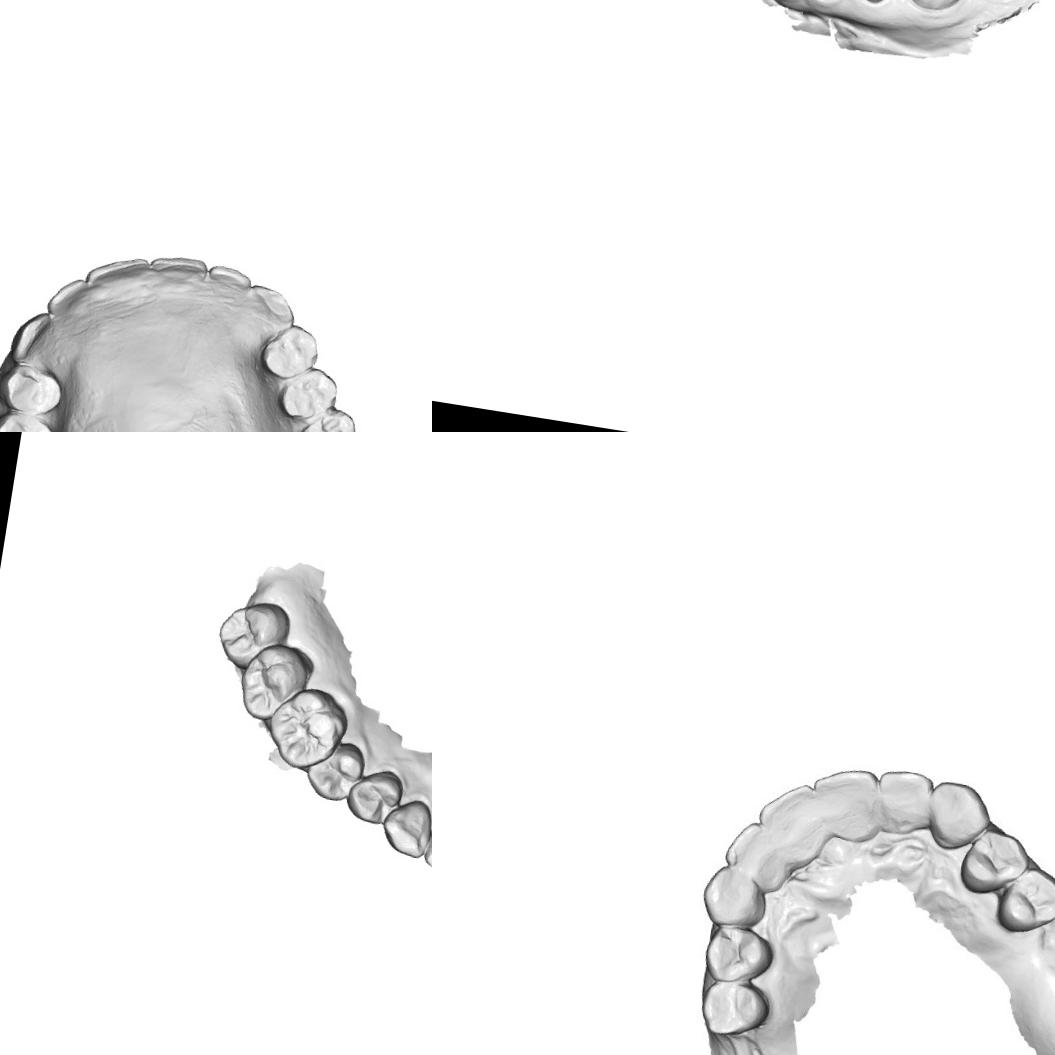canine: (923, 780, 991, 852), (704, 860, 774, 925), (240, 282, 300, 346), (377, 793, 432, 861), (7, 306, 60, 369)
incisor: (757, 780, 834, 860), (808, 766, 889, 842), (720, 823, 796, 888), (874, 768, 942, 838), (84, 249, 151, 302), (146, 247, 210, 294), (204, 262, 256, 312), (43, 272, 90, 325)
molar: (260, 679, 354, 776), (234, 638, 314, 728), (212, 594, 295, 675), (287, 402, 370, 432)
premolar: (701, 918, 779, 988), (303, 735, 370, 808), (700, 978, 774, 1042), (960, 829, 1027, 899), (253, 318, 324, 384), (274, 362, 342, 426), (342, 764, 407, 830), (0, 359, 67, 419), (997, 863, 1055, 931), (0, 407, 59, 432)
